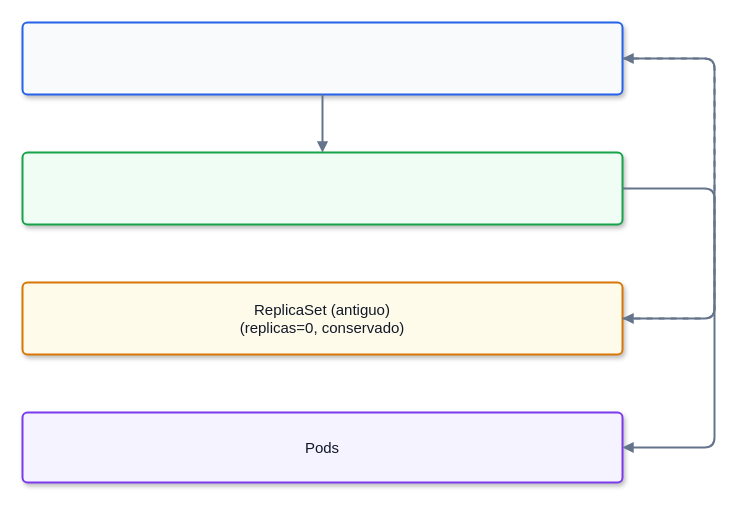
The diagram is 740 pixels wide and 507 high, and some of its shapes have lost their labels. Here are the shapes that lost their labels. From the top down, the centre of each, then its label:
the point at 323,59: Deployment DeploymentController
the point at 323,189: ReplicaSet (nuevo) ReplicaSetController
